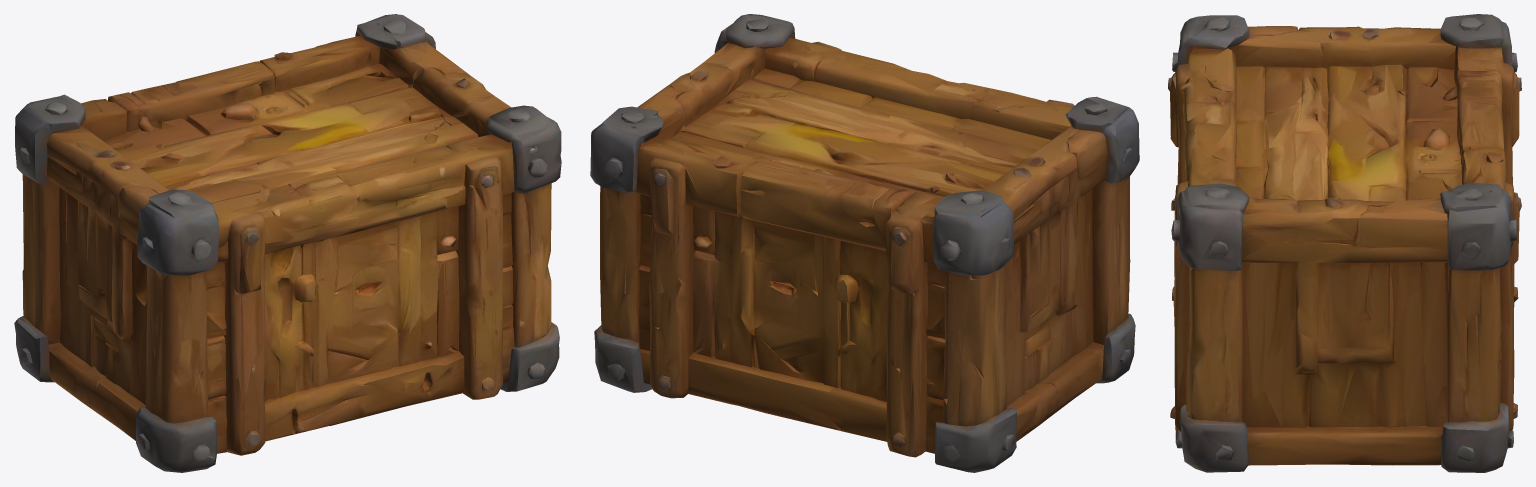
Rendered from crate_idle.glb.
The picture shows the model from 3 angles, left to right: view 1: azimuth 30°, elevation 25°; view 2: azimuth 150°, elevation 25°; view 3: azimuth 270°, elevation 25°; orthographic projection. The views are drawn at different scales.
Visible parts, largest first — view 1: tripo_node_11248de8-1d22-4241-bb79-b247c85cfe46; view 2: tripo_node_11248de8-1d22-4241-bb79-b247c85cfe46; view 3: tripo_node_11248de8-1d22-4241-bb79-b247c85cfe46.
Boxes of the visible parts, x1,y1,x2,y2 form: tripo_node_11248de8-1d22-4241-bb79-b247c85cfe46: [14, 14, 561, 472]; tripo_node_11248de8-1d22-4241-bb79-b247c85cfe46: [590, 14, 1139, 472]; tripo_node_11248de8-1d22-4241-bb79-b247c85cfe46: [1168, 14, 1521, 472].
Size of the model in its own units: 0.7949 by 0.4988 by 0.579.
Materials: 1 (1 with a texture image).
